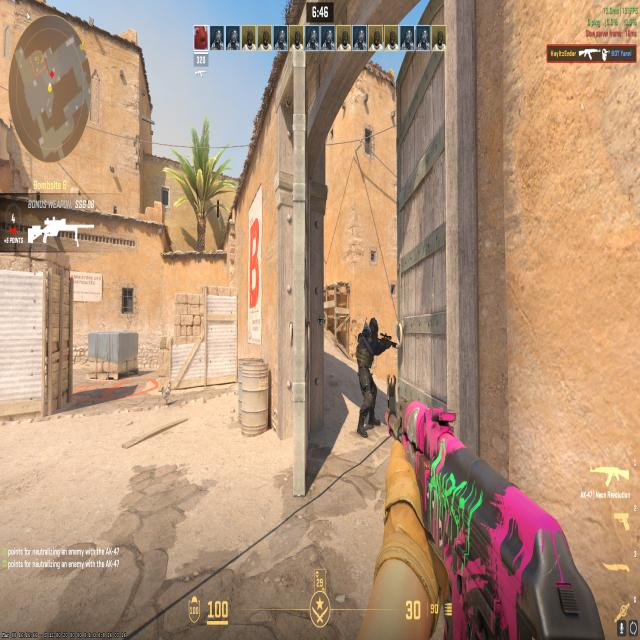ct: (353, 312, 384, 440)
